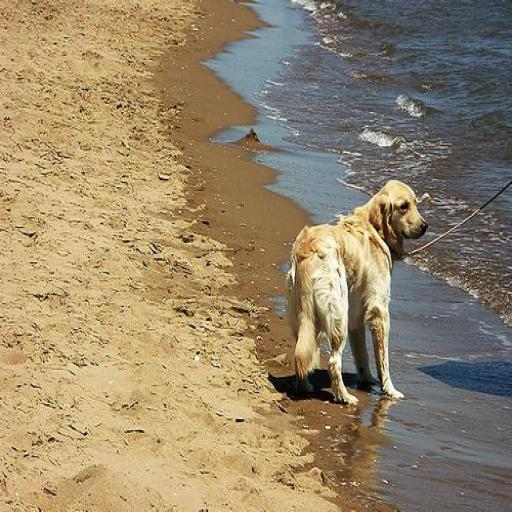dog_face: (372, 178, 427, 249)
